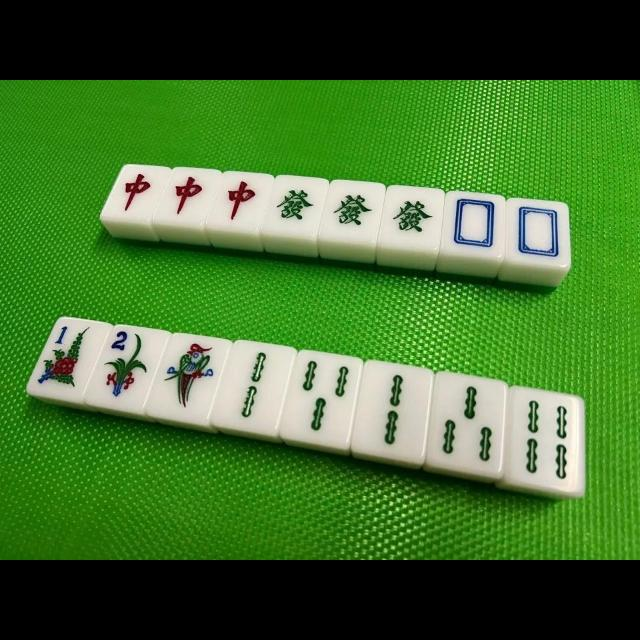b1: (156, 336, 226, 416)
b2: (357, 365, 429, 459), (222, 344, 292, 430)
b3: (432, 379, 502, 475), (288, 354, 359, 442)
b4: (508, 392, 582, 492)
dg: (382, 190, 438, 247), (268, 178, 322, 236), (324, 183, 378, 241)
dr: (212, 175, 266, 233), (102, 168, 160, 218), (162, 170, 212, 228)
dw: (508, 200, 566, 264), (444, 195, 501, 257)
f1-s: (32, 322, 100, 398)
f2-s: (91, 327, 161, 405)
